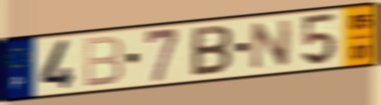4: (38, 37, 80, 94)
5: (300, 10, 339, 68)
7: (143, 27, 181, 84)
B: (189, 23, 234, 79), (83, 34, 126, 90)
N: (248, 17, 295, 73)
